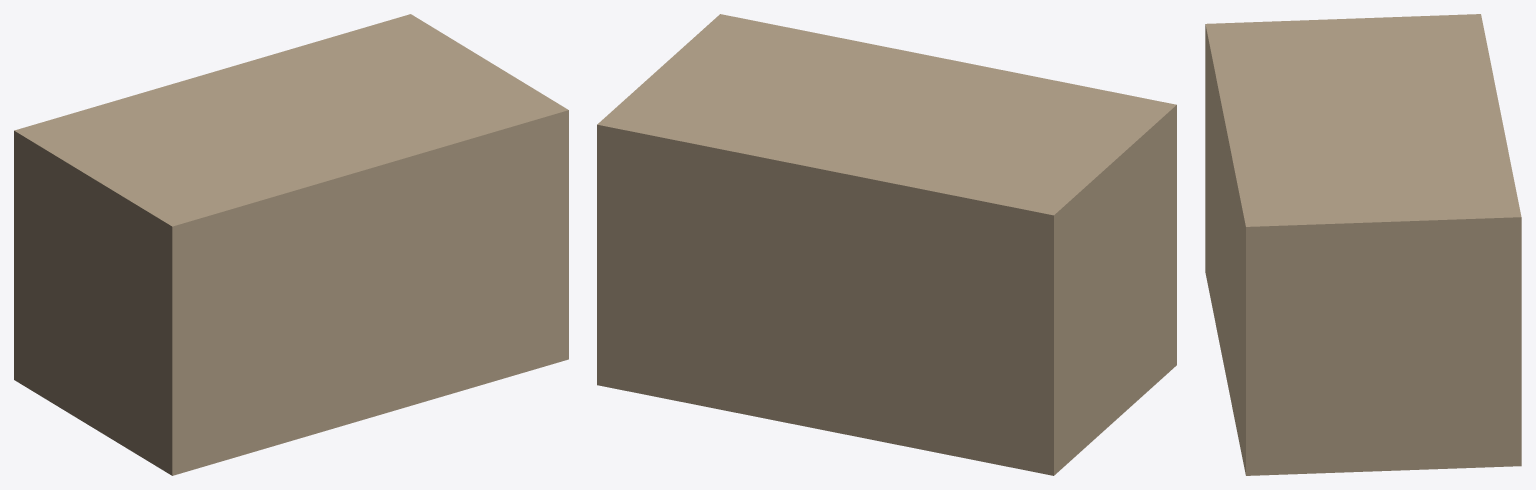
The model's file is bld_104408968.dae.
The picture shows the model from 3 angles, left to right: view 1: azimuth 30°, elevation 25°; view 2: azimuth 150°, elevation 25°; view 3: azimuth 270°, elevation 25°; orthographic projection. The views are drawn at different scales.
Visible parts, largest first — view 1: bld_104408968; view 2: bld_104408968; view 3: bld_104408968.
Boxes of the visible parts, x1=… form: bld_104408968: x1=14, y1=14, x2=568, y2=475; bld_104408968: x1=597, y1=14, x2=1176, y2=475; bld_104408968: x1=1205, y1=14, x2=1521, y2=475.
Size of the model in its own units: 14.67 by 9.2 by 8.
